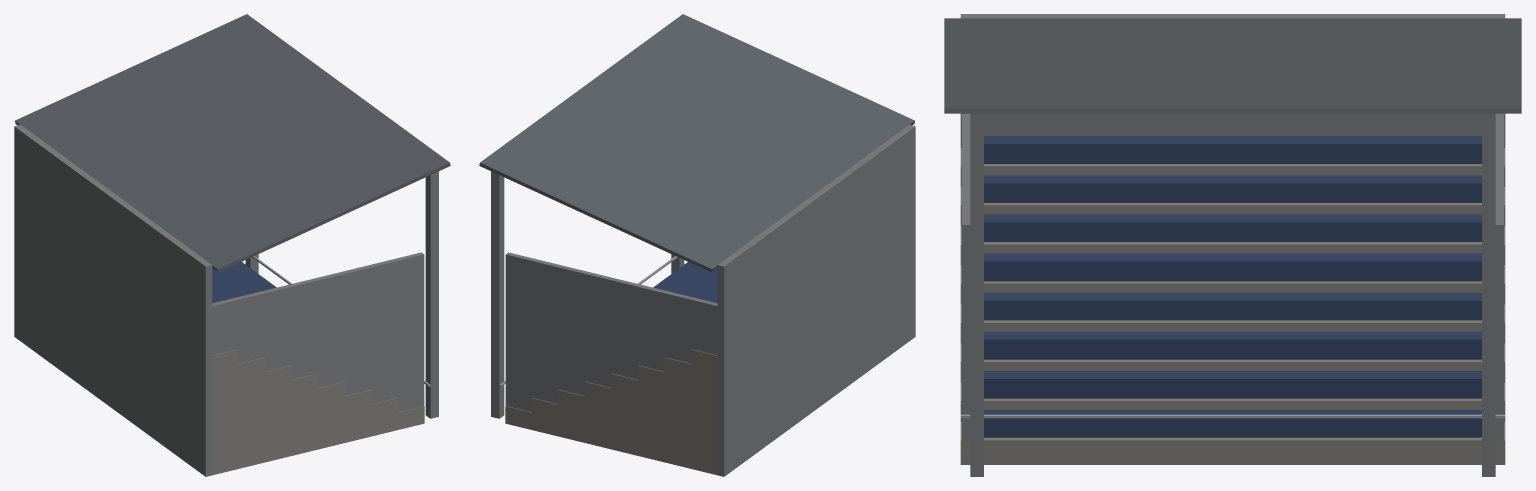
The model's file is SM_Prop_grandstand_0.glb.
3 renders of one model, left to right at view 1: azimuth 30°, elevation 25°; view 2: azimuth 150°, elevation 25°; view 3: azimuth 270°, elevation 25°, orthographic. The views are drawn at different scales.
Parts seen in each view (by area): view 1: SM_Prop_grandstand_0; view 2: SM_Prop_grandstand_0; view 3: SM_Prop_grandstand_0.
Part boxes in pixels (box(x1,y1,x2,y2)): SM_Prop_grandstand_0: box(14, 14, 450, 476); SM_Prop_grandstand_0: box(479, 14, 915, 476); SM_Prop_grandstand_0: box(944, 14, 1521, 476).
Bounding box in the file's own units: 7.21 × 7.5 × 10.6.
